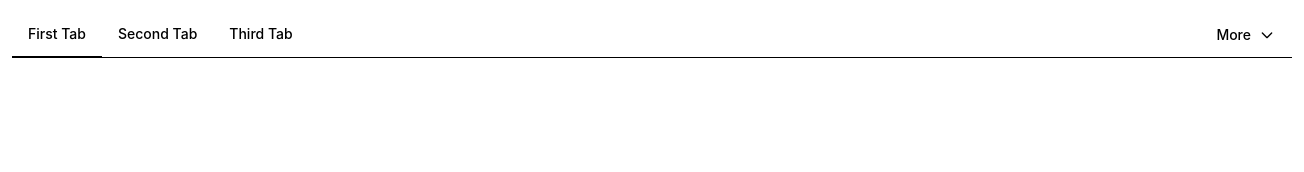
Test case: TabNavigation › Overflow tabs (More menu) › shows collapsed tabs in the More dropdown when opened
What coordinates should you click on to do the following:
click the button with test id "tab-more"
I would click on:
 (1246, 36)
Its box is x1=1199 y1=12 x2=1292 y2=59.
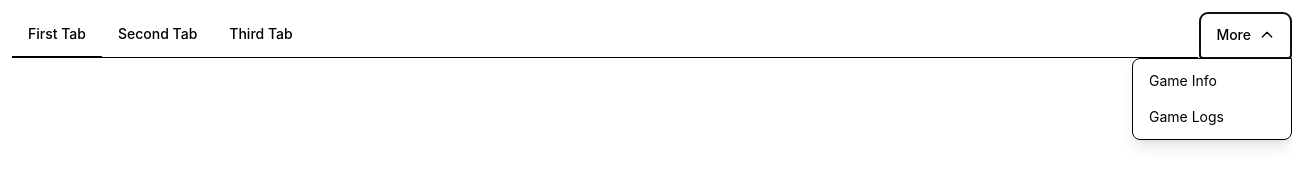
Expected: the button with test id "tab-info-overflow" is shown, x1=1133 y1=63 x2=1291 y2=99
Expected: the button with test id "tab-logs-overflow" is shown, x1=1133 y1=99 x2=1291 y2=135
